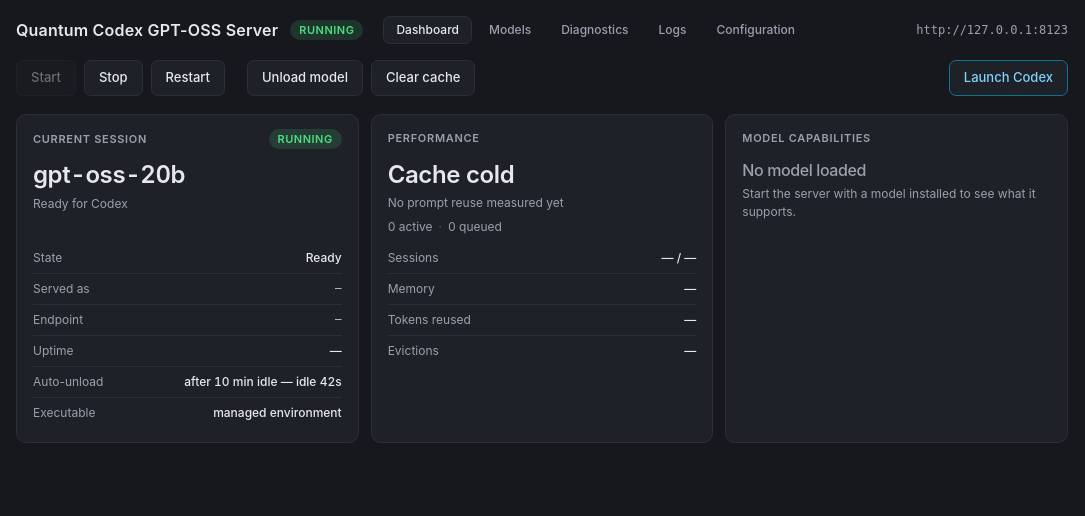
Test case: the Unload action › shows the server's refusal in its own words
Click the button "Unload model" at (305, 78), box [247,60,363,96]
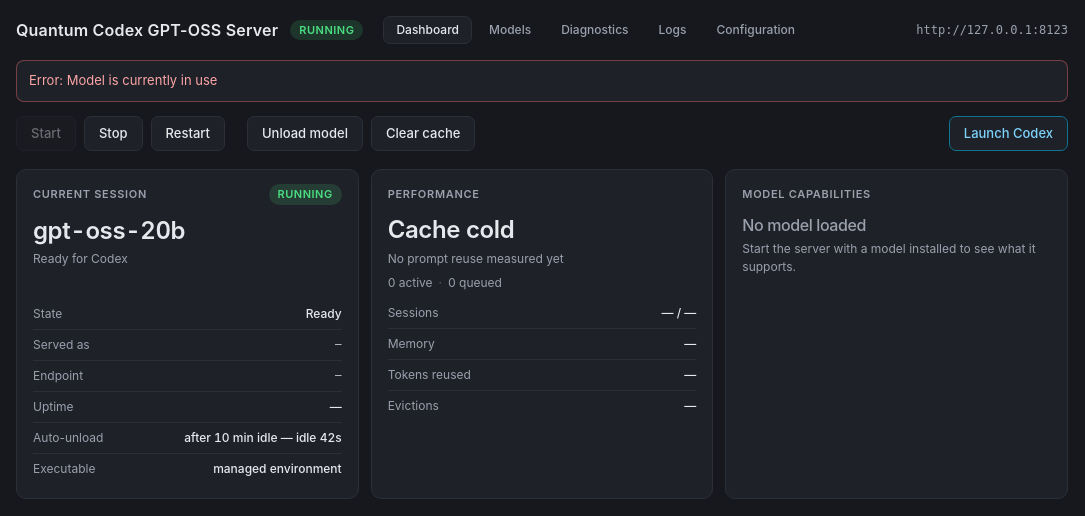
Check: the text "Error: Model is currently in use" is shown, box [16,60,1068,102]
